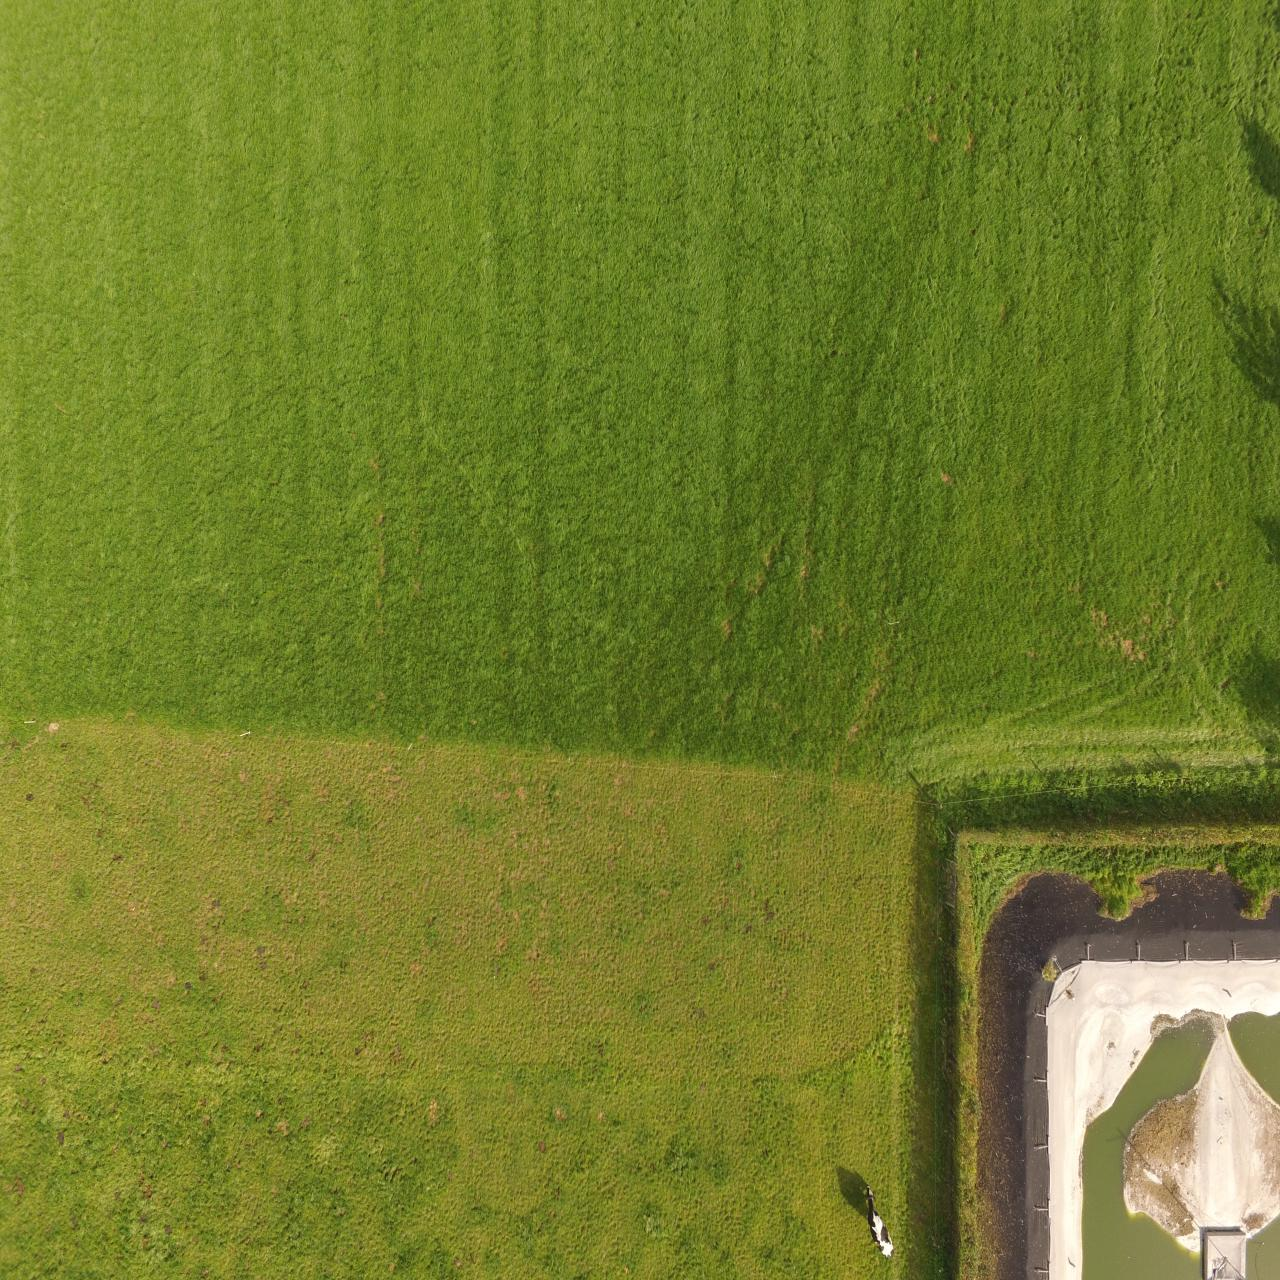cow: (865, 1185, 894, 1259)
